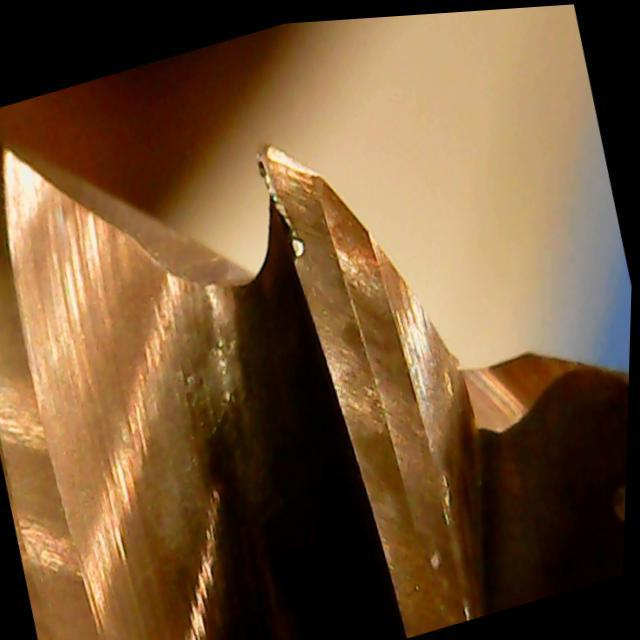Tool-wear-class-1: (238, 112, 414, 421)
